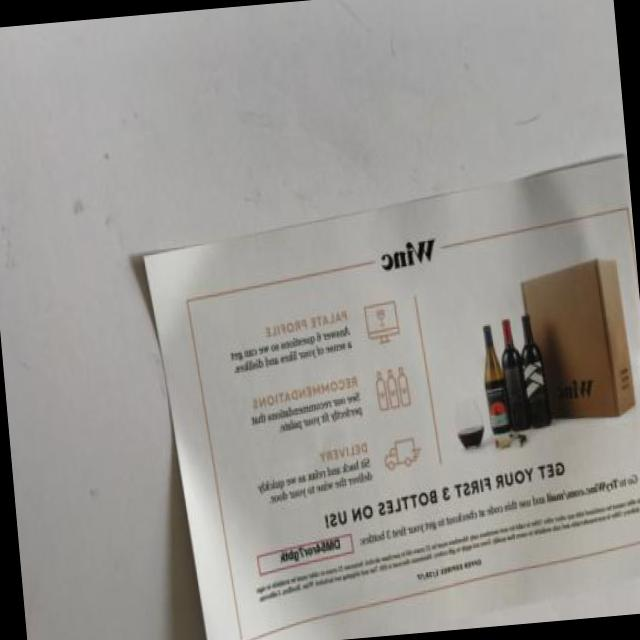bottle: (521, 315, 550, 428), (501, 319, 530, 430), (483, 326, 510, 434), (397, 368, 410, 407), (376, 371, 388, 410), (386, 370, 398, 408)
cardboard: (521, 260, 634, 418)
paper: (145, 159, 639, 639)
